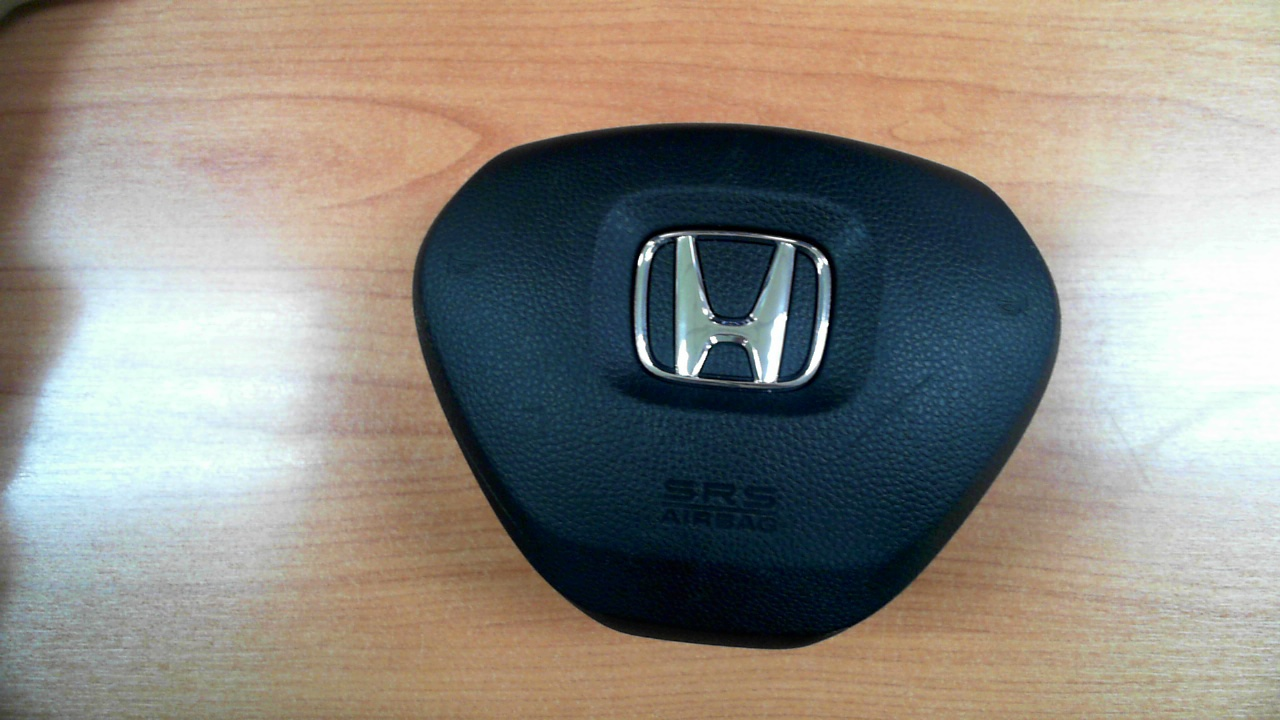Airbag: (412, 122, 1061, 650)
Honda: (635, 225, 834, 395)
